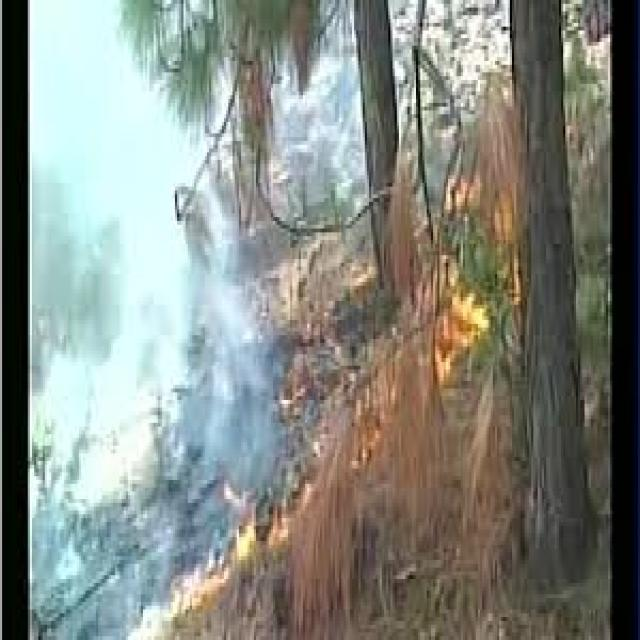Fire: (442, 264, 482, 394), (230, 492, 268, 591), (173, 554, 228, 616)
Smoke: (38, 25, 272, 472)
